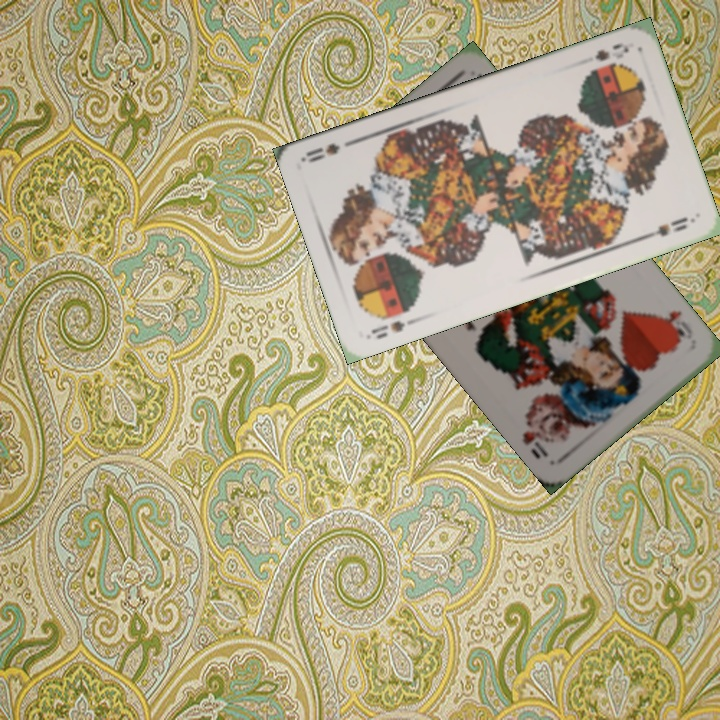HO: (654, 306, 688, 345)
SO: (366, 313, 421, 342), (591, 39, 632, 64)
